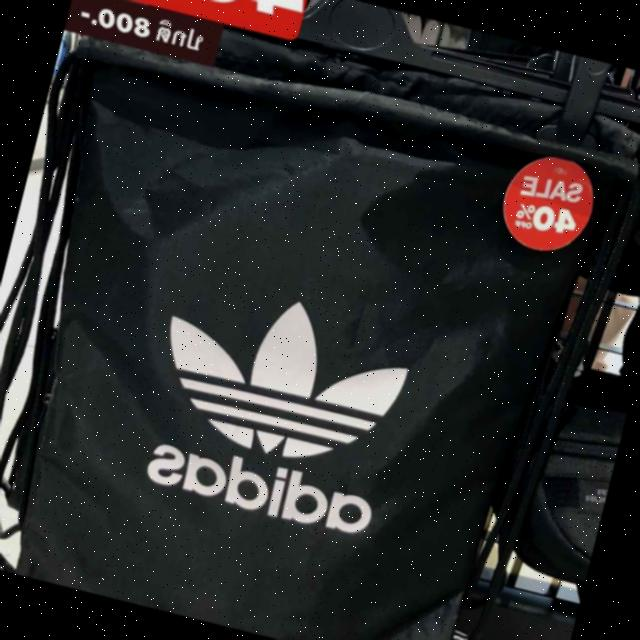Handbag: (0, 17, 640, 640)
